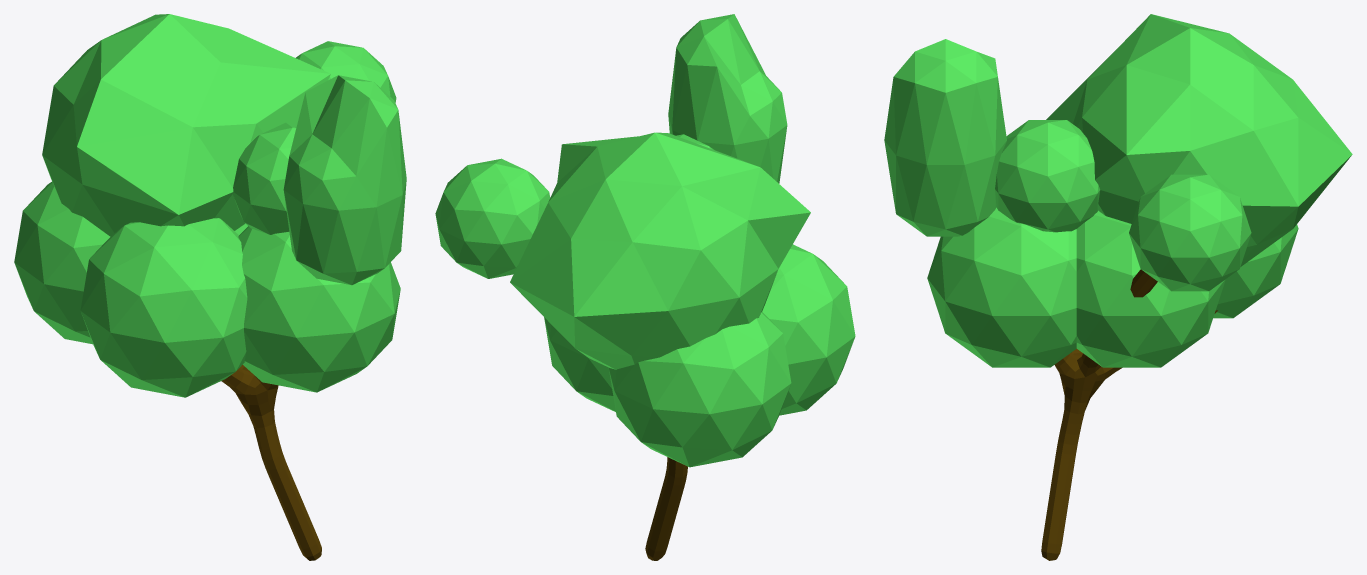
The model's file is Arbol.fbx.
3 renders of one model, left to right at view 1: azimuth 30°, elevation 25°; view 2: azimuth 150°, elevation 25°; view 3: azimuth 270°, elevation 25°, orthographic. The views are drawn at different scales.
Parts seen in each view (by area): view 1: Icosphere.007; view 2: Icosphere.007; view 3: Icosphere.007.
Part boxes in pixels (x1,y1,x2,y2): Icosphere.007: [14, 14, 406, 560]; Icosphere.007: [435, 14, 855, 560]; Icosphere.007: [884, 14, 1352, 560].
Bounding box in the file's own units: 419 × 599 × 497.
